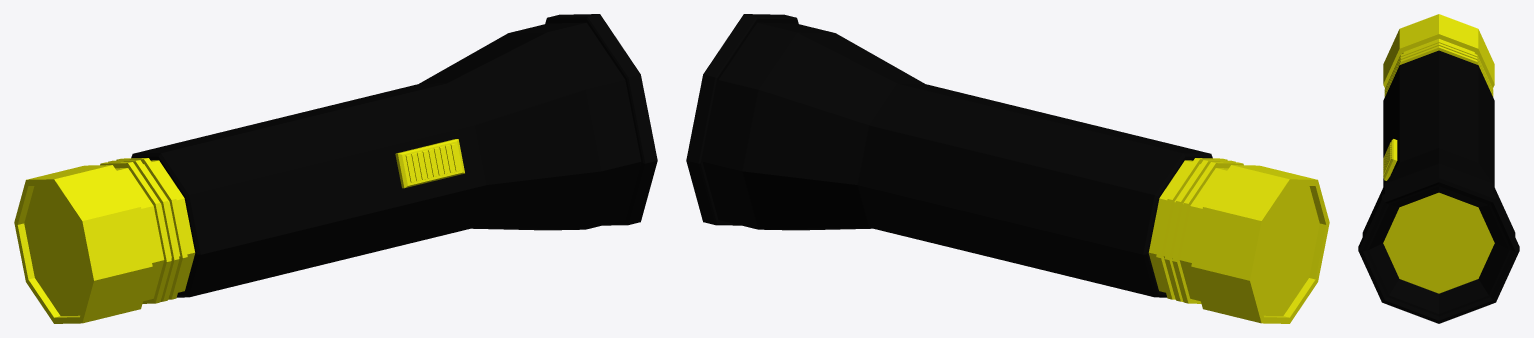
File: torch.fbx
The picture shows the model from 3 angles, left to right: view 1: azimuth 30°, elevation 25°; view 2: azimuth 150°, elevation 25°; view 3: azimuth 270°, elevation 25°; orthographic projection. The views are drawn at different scales.
Visible parts, largest first — view 1: Cylinder.001, Cylinder, Cube; view 2: Cylinder.001, Cylinder; view 3: Cylinder.001, Cylinder, Cube.
Part boxes in pixels (x1,y1,x2,y2): Cylinder.001: [131, 14, 657, 297]; Cylinder: [14, 158, 195, 323]; Cube: [395, 139, 464, 188]; Cylinder.001: [686, 14, 1212, 297]; Cylinder: [1148, 158, 1329, 323]; Cylinder.001: [1358, 50, 1519, 323]; Cylinder: [1383, 14, 1494, 96]; Cube: [1383, 139, 1397, 180].
Bounding box in the file's own units: 792 × 289 × 289.
